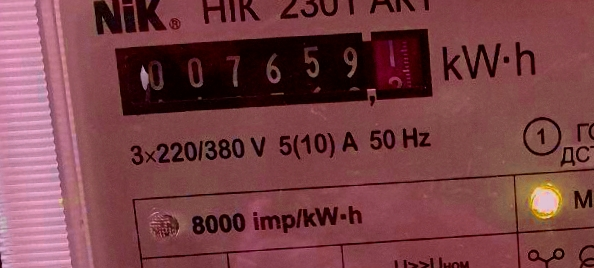0: (183, 53, 207, 91), (144, 54, 166, 94)
1: (382, 34, 400, 70)
5: (300, 42, 322, 80)
6: (261, 48, 284, 85)
7: (221, 50, 243, 89)
9: (338, 42, 361, 80)
screen: (105, 21, 442, 124)
